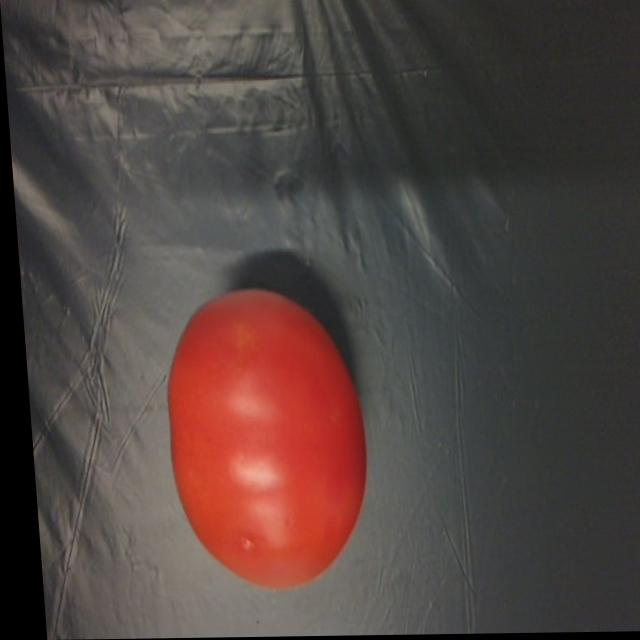kirmizi: (143, 272, 373, 583)
